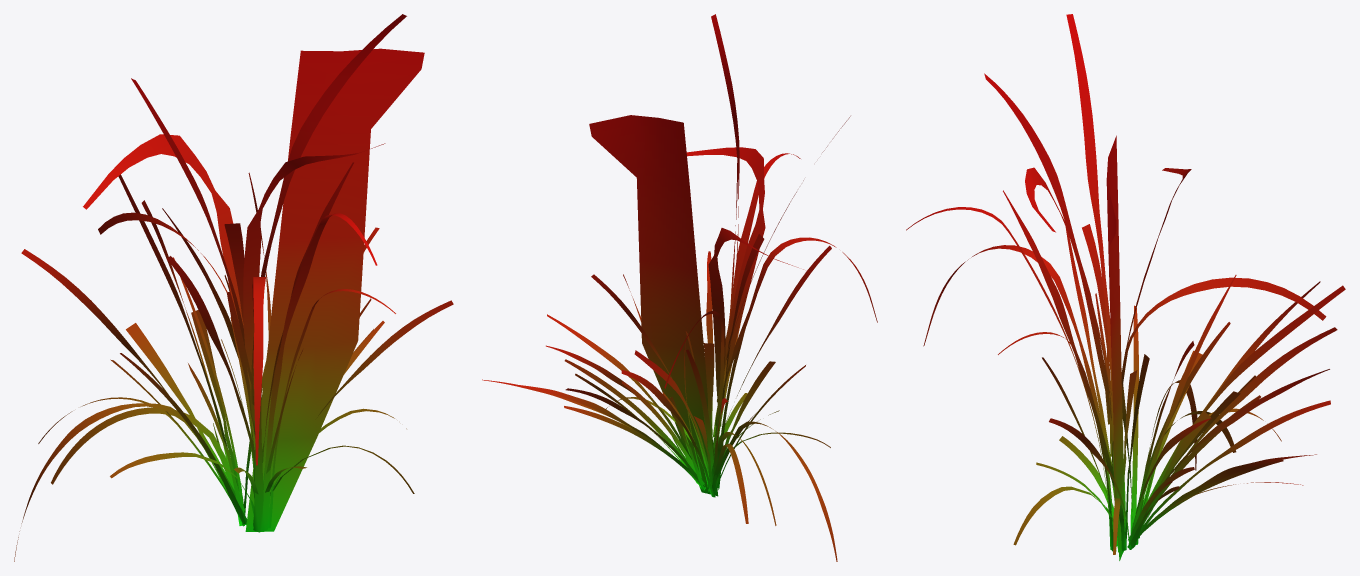
File: Lemongrass_LOD0_Var2_sktne.fbx
The picture shows the model from 3 angles, left to right: view 1: azimuth 30°, elevation 25°; view 2: azimuth 150°, elevation 25°; view 3: azimuth 270°, elevation 25°; orthographic projection. The views are drawn at different scales.
Parts seen in each view (by area): view 1: _3503_Var2_LOD0; view 2: _3503_Var2_LOD0; view 3: _3503_Var2_LOD0.
Boxes of the visible parts, box(x1,y1,x2,y2) form: _3503_Var2_LOD0: box(14, 14, 453, 561); _3503_Var2_LOD0: box(482, 14, 877, 561); _3503_Var2_LOD0: box(906, 14, 1345, 560).
Size of the model in its own units: 35.04 by 46.62 by 35.72.
